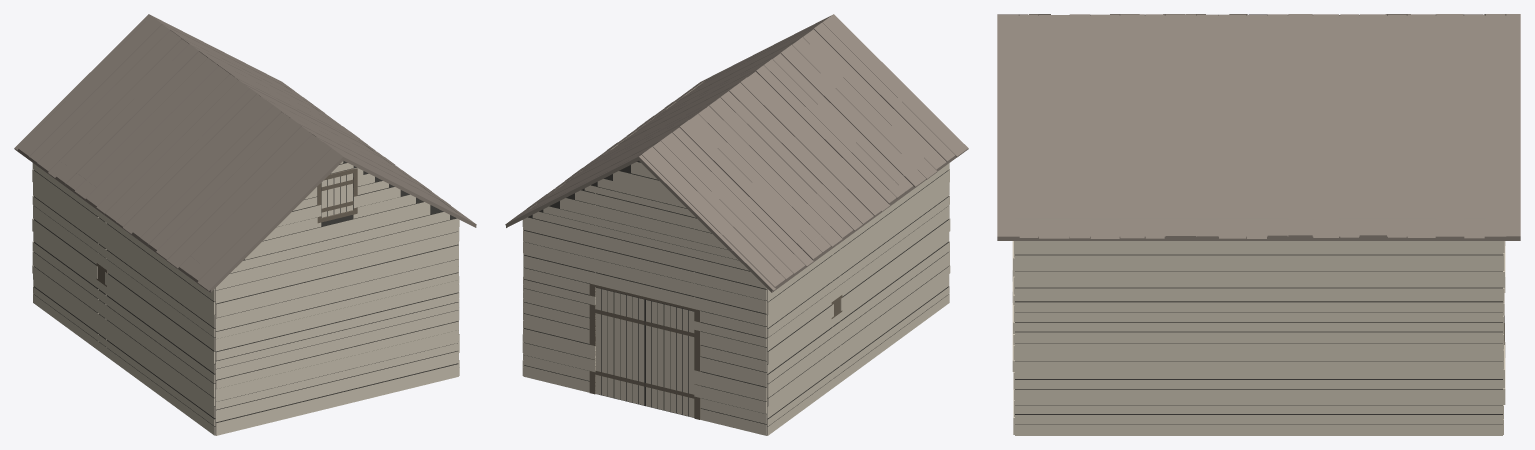
The model's file is recon_1835_blk_randolph_clinton_a2_05__inferred_1835.glb.
3 views of the same model, side by side, from view 1: azimuth 30°, elevation 25°; view 2: azimuth 150°, elevation 25°; view 3: azimuth 270°, elevation 25° (orthographic). The views are drawn at different scales.
Parts seen in each view (by area): view 1: recon_1835_blk_randolph_clinton_a2_05__inferred_1835; view 2: recon_1835_blk_randolph_clinton_a2_05__inferred_1835; view 3: recon_1835_blk_randolph_clinton_a2_05__inferred_1835.
Part boxes in pixels (bbox=[...]): recon_1835_blk_randolph_clinton_a2_05__inferred_1835: bbox=[14, 14, 476, 435]; recon_1835_blk_randolph_clinton_a2_05__inferred_1835: bbox=[505, 14, 968, 435]; recon_1835_blk_randolph_clinton_a2_05__inferred_1835: bbox=[997, 14, 1520, 435].
Size of the model in its own units: 7.88 by 7.11 by 9.87.
